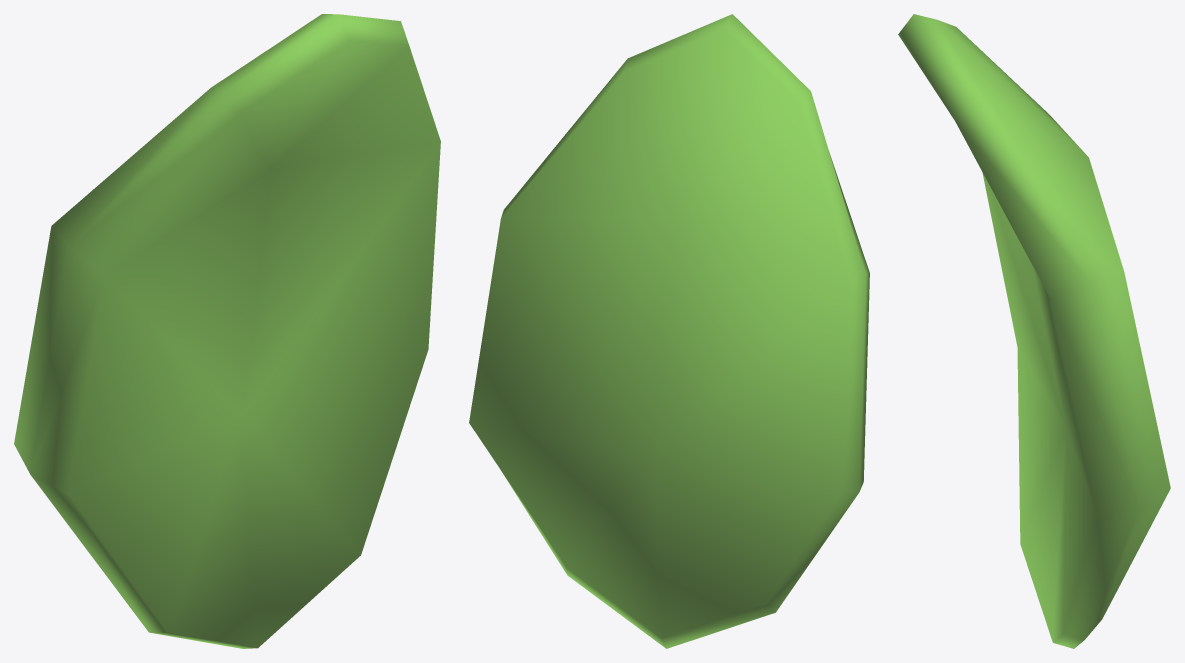
The model's file is leaf.glb.
The picture shows the model from 3 angles, left to right: view 1: azimuth 30°, elevation 25°; view 2: azimuth 150°, elevation 25°; view 3: azimuth 270°, elevation 25°; orthographic projection. The views are drawn at different scales.
Visible parts, largest first — view 1: leaf; view 2: leaf; view 3: leaf.
Boxes of the visible parts, x1,y1,x2,y2 form: leaf: (14, 14, 440, 648); leaf: (469, 14, 869, 648); leaf: (898, 14, 1170, 648).
Size of the model in its own units: 0.1249 by 0.1972 by 0.0763.
